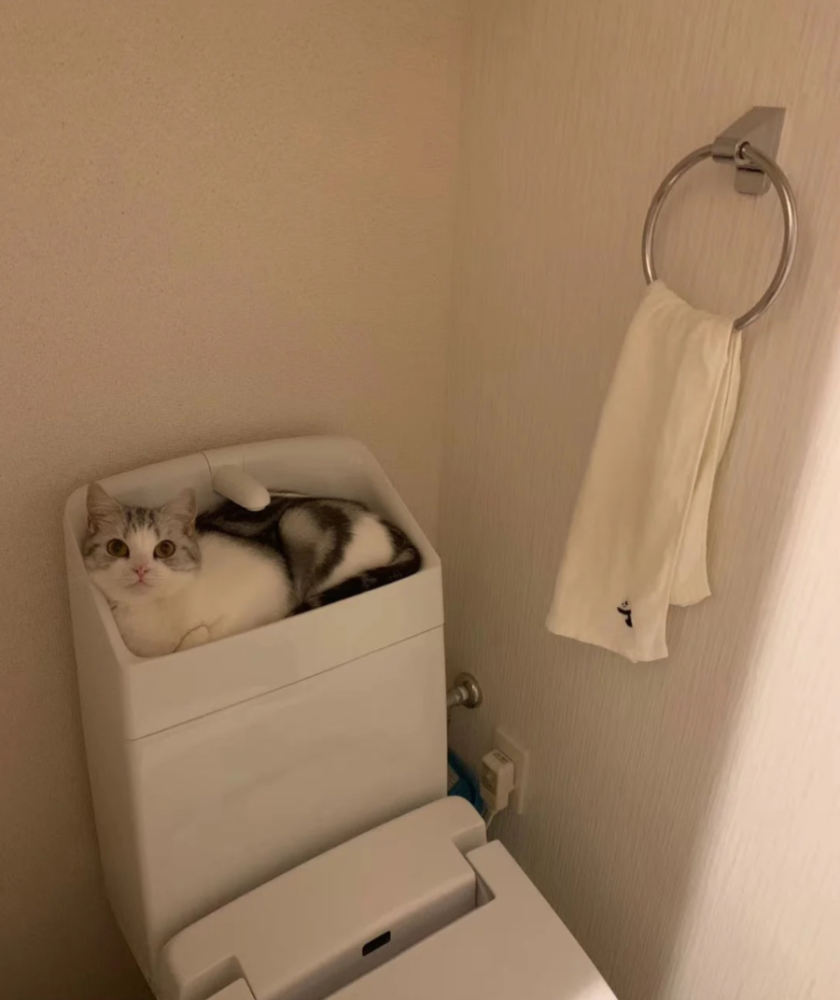cat: (74, 474, 424, 664)
